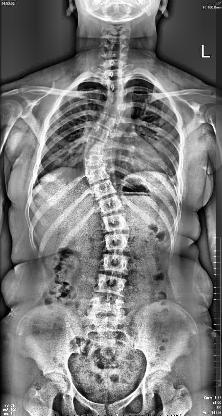Vertebrae: (93, 273, 127, 297), (88, 296, 126, 316), (101, 254, 131, 274), (92, 179, 118, 201), (98, 196, 124, 216), (84, 166, 112, 184), (102, 214, 130, 232), (103, 233, 129, 252), (88, 124, 110, 144), (96, 114, 118, 132), (84, 138, 106, 154), (103, 102, 123, 118), (84, 154, 104, 170), (106, 90, 126, 104), (107, 79, 125, 91), (104, 70, 122, 80)
